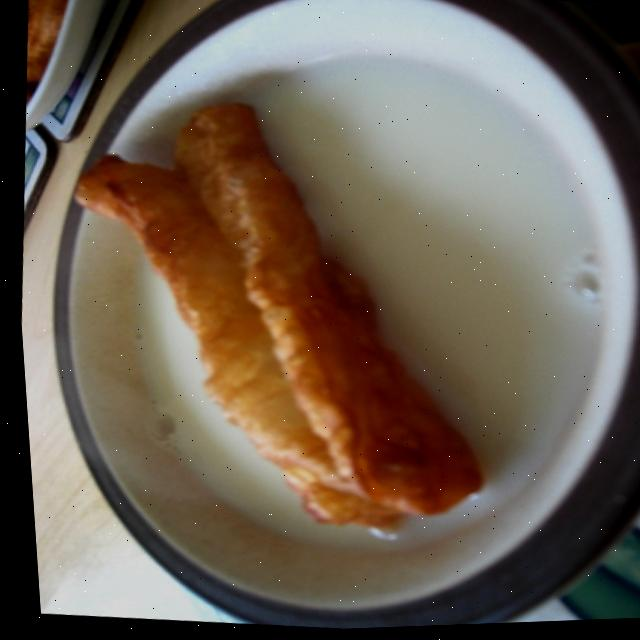炸货点心: (25, 82, 544, 568)
